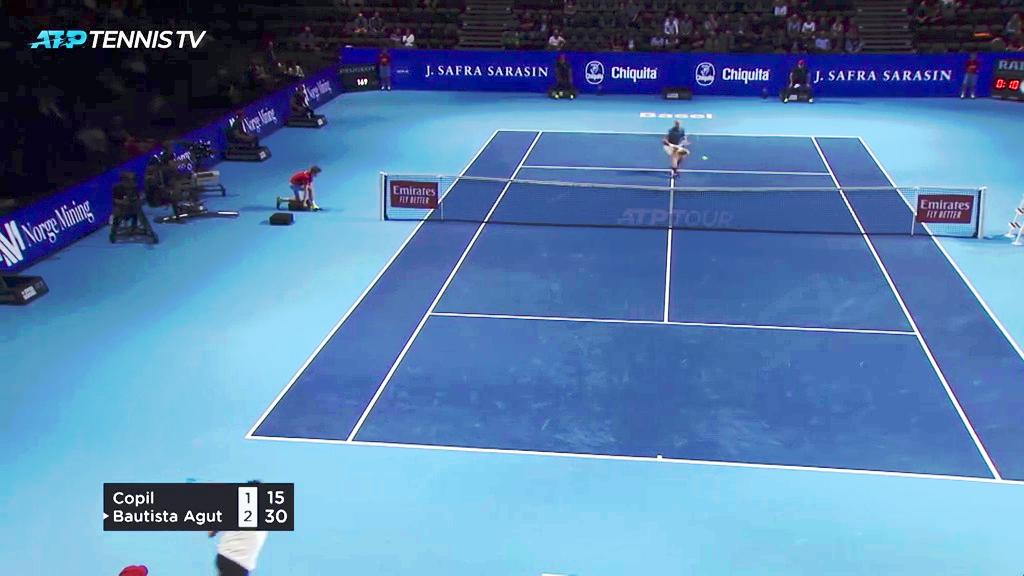tennis-court: (243, 129, 1024, 484)
